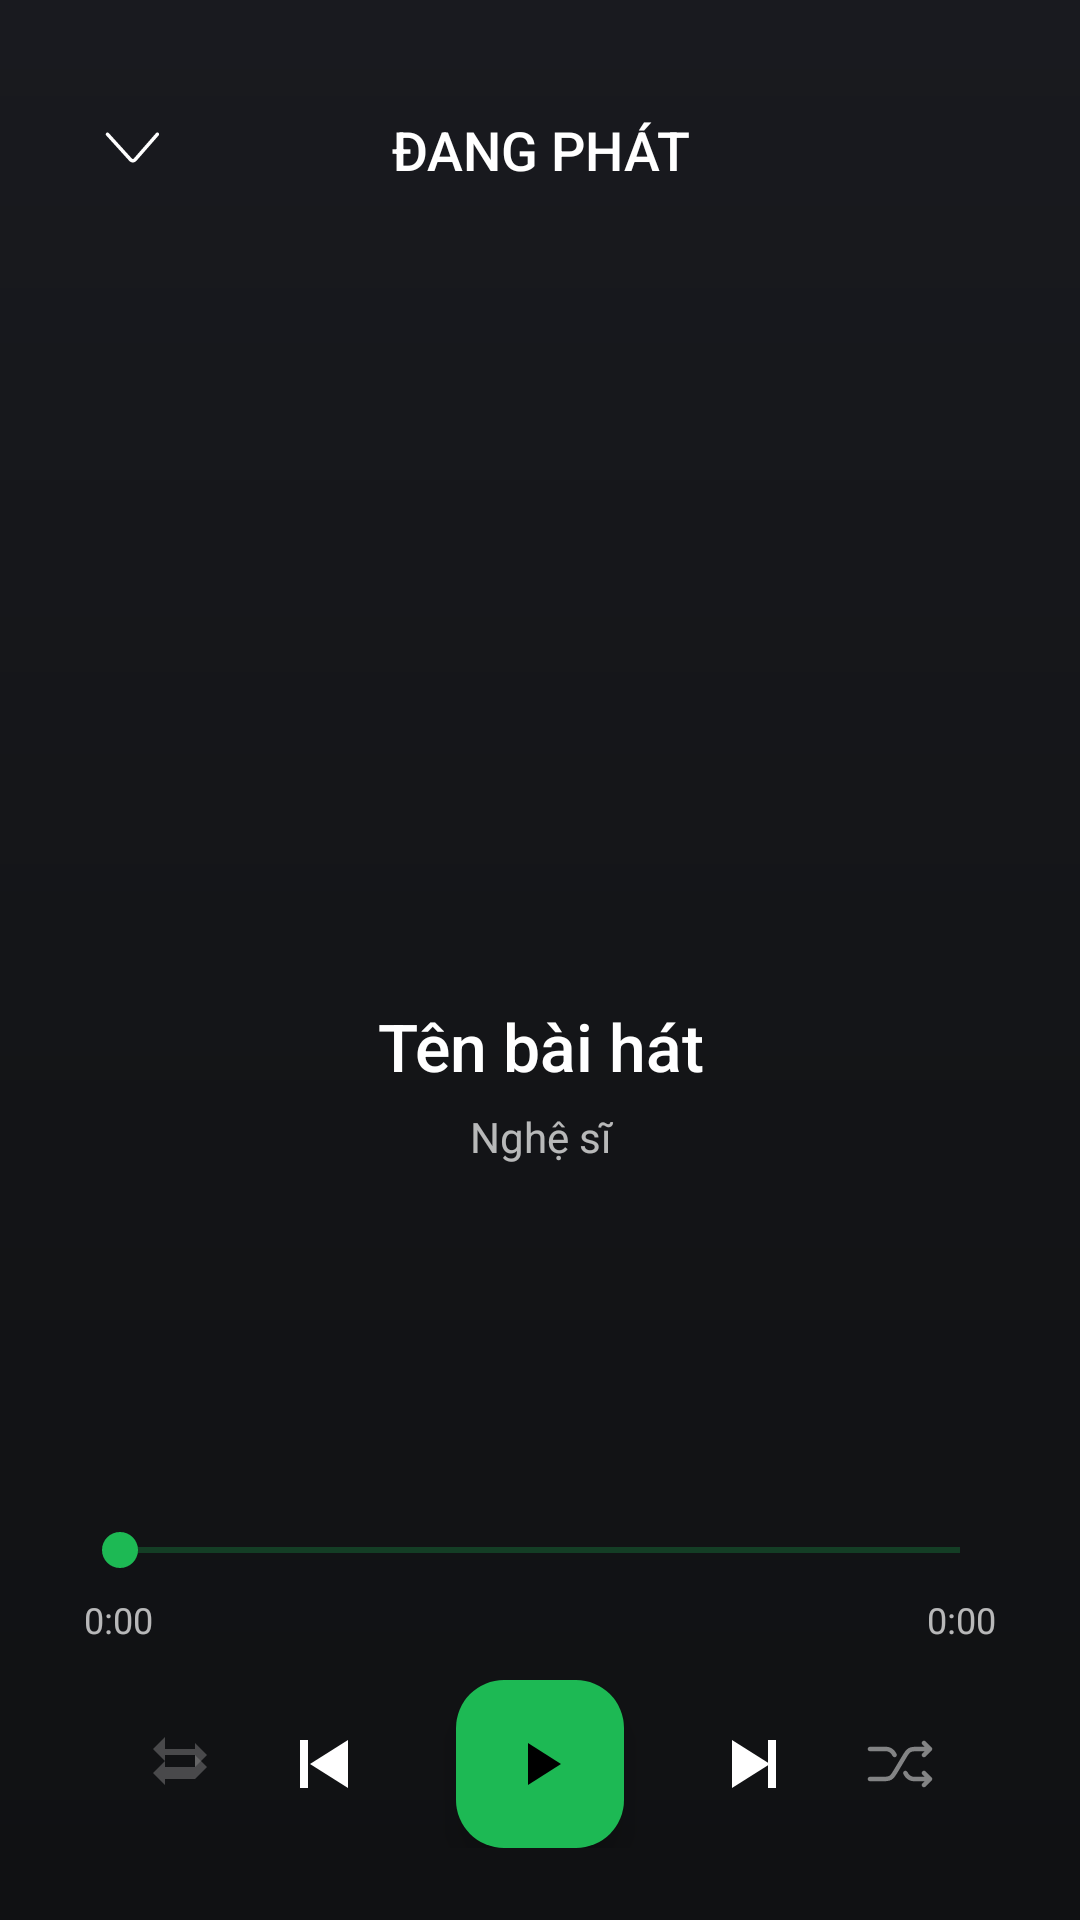

Screen size 1080px x 1920px. Icon name, then its center in pixels as (x=x, y=y):
back: (x=132, y=147)
Bài tiếp: (x=754, y=1764)
Bài trước: (x=324, y=1764)
Lặp lại: (x=180, y=1761)
Ngẫu nhiên: (x=900, y=1764)
Phát/Tạm dừng: (x=540, y=1764)
